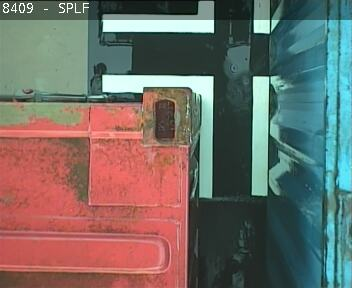groundmarker_1: (99, 1, 214, 199)
